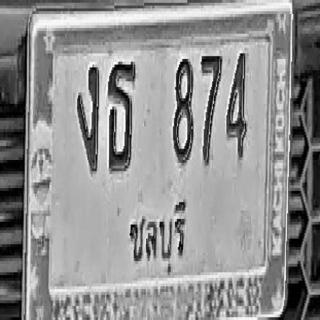A07: (77, 63, 99, 173)
A24: (108, 58, 135, 170)
N04: (226, 49, 246, 158)
N07: (200, 52, 222, 164)
N08: (173, 56, 193, 163)
